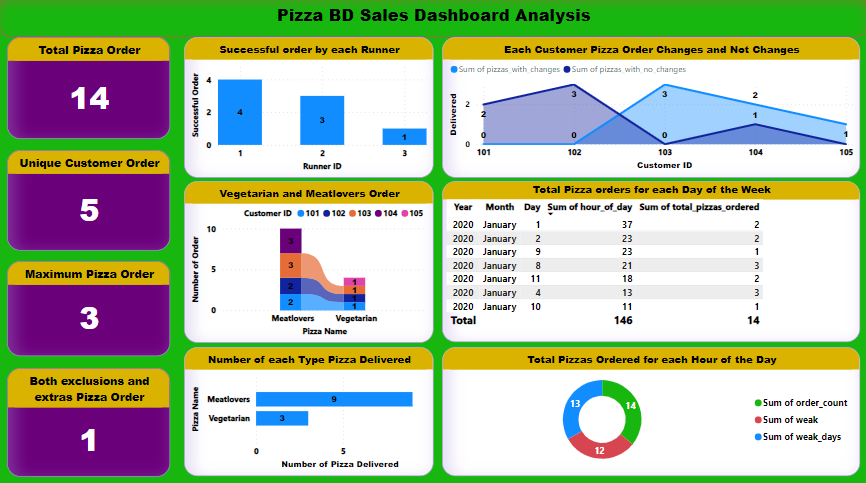

The dashboard page shown, as its layout file describes it:
{"tool":"powerbi","page":{"name":"Page 1","canvas":[1280,720],"ordinal":0},"visuals":[{"type":"textbox","box":[0,0,1280,62.4],"z":0},{"type":"card","title":"Total Pizza Order","fields":{"Values":["CountNonNull(pizza_bd customer_orders.pizza_id)"]},"box":[13.3,61.7,240,150],"z":1},{"type":"card","title":"Unique Customer  Order","fields":{"Values":["Count(pizza_bd customer_orders.customer_id)"]},"box":[13.3,228.3,240,148.3],"z":2},{"type":"clusteredColumnChart","title":"Successful order  by each Runner","fields":{"Category":["Query1.runner_id"],"Y":["Sum(Query1.successfuly_delivered)"]},"box":[273.3,61.7,366.7,206.7],"z":3},{"type":"clusteredBarChart","title":"Number of each Type Pizza Delivered","fields":{"Category":["Query2.pizza_name"],"Y":["Sum(Query2.count(pizza_id))"]},"box":[273.3,518.3,366.7,190],"z":4},{"type":"ribbonChart","title":"Vegetarian and Meatlovers Order","fields":{"Category":["Query3.pizza_name"],"Y":["Sum(Query3.cnt)"],"Series":["Query3.customer_id"]},"box":[273.3,273.3,366.7,238.3],"z":5},{"type":"card","title":"Maximum Pizza Order","fields":{"Values":["Sum(Query4.max_order)"]},"box":[13.3,391.7,240,140],"z":6},{"type":"areaChart","title":"Each Customer Pizza Order Changes  and Not Changes","fields":{"Category":["Query5.customer_id"],"Y":["Sum(Query5.pizzas_with_changes)","Sum(Query5.pizzas_with_no_changes)"]},"box":[653.3,61.7,615,206.7],"z":7},{"type":"card","title":"Both exclusions and extras Pizza Order","fields":{"Values":["Sum(Query6.pizzas_with_both_exclusions_and_extras)"]},"box":[13.3,548.3,240,160],"z":8},{"type":"tableEx","title":"Total Pizza orders for each Day of the Week","fields":{"Values":["Query7.dates.Variation.Date Hierarchy.Year","Query7.dates.Variation.Date Hierarchy.Month","Query7.dates.Variation.Date Hierarchy.Day","Sum(Query7.hour_of_day)","Sum(Query7.total_pizzas_ordered)"]},"box":[653,273.3,615,236.7],"z":9},{"type":"donutChart","title":"Total Pizzas Ordered for each Hour of the Day","fields":{"Y":["Sum(Query8.order_count)","Sum(Query8.weak)","Sum(Query8.weak_days)"]},"box":[653.3,518.3,615,190],"z":11}]}

Visuals, with their boxes in screenshot pixels (x1, y1, x2, y2), scaled from the page's 1280x720 canvas onto the 866x483 screenshot:
textbox: l=0, t=0, r=865, b=42
"Total Pizza Order" card: l=9, t=41, r=171, b=142
"Unique Customer  Order" card: l=9, t=153, r=171, b=253
"Successful order  by each Runner" clusteredColumnChart: l=185, t=41, r=433, b=180
"Number of each Type Pizza Delivered" clusteredBarChart: l=185, t=348, r=433, b=475
"Vegetarian and Meatlovers Order" ribbonChart: l=185, t=183, r=433, b=343
"Maximum Pizza Order" card: l=9, t=263, r=171, b=357
"Each Customer Pizza Order Changes  and Not Changes" areaChart: l=442, t=41, r=858, b=180
"Both exclusions and extras Pizza Order" card: l=9, t=368, r=171, b=475
"Total Pizza orders for each Day of the Week" tableEx: l=442, t=183, r=858, b=342
"Total Pizzas Ordered for each Hour of the Day" donutChart: l=442, t=348, r=858, b=475
